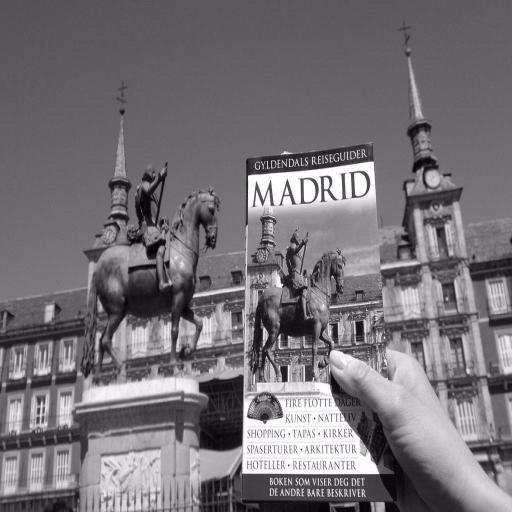horse: (80, 184, 224, 376), (249, 244, 347, 382)
